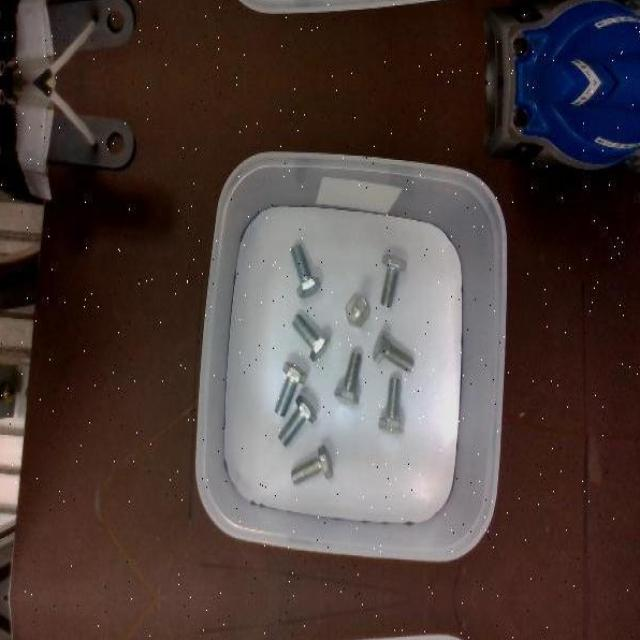screw: (278, 394, 317, 447), (291, 312, 330, 362), (290, 442, 333, 484), (289, 242, 321, 298), (372, 328, 414, 370), (275, 361, 307, 415), (334, 350, 363, 404), (378, 378, 404, 435), (380, 254, 407, 306), (346, 293, 370, 325)
